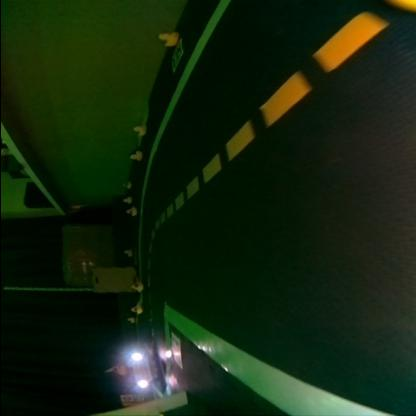Duckie: (157, 32, 175, 44), (110, 365, 124, 375), (132, 126, 144, 134), (128, 152, 140, 160), (130, 282, 142, 290), (129, 306, 141, 312), (124, 208, 134, 214), (123, 249, 131, 255), (126, 317, 134, 323), (121, 197, 130, 202), (121, 182, 129, 187)
Duckiebot: (127, 350, 156, 388)
QR code: (170, 38, 182, 72), (170, 330, 180, 366)
